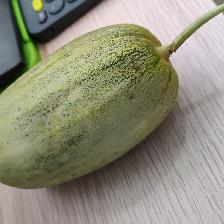gua: (5, 33, 169, 180)
